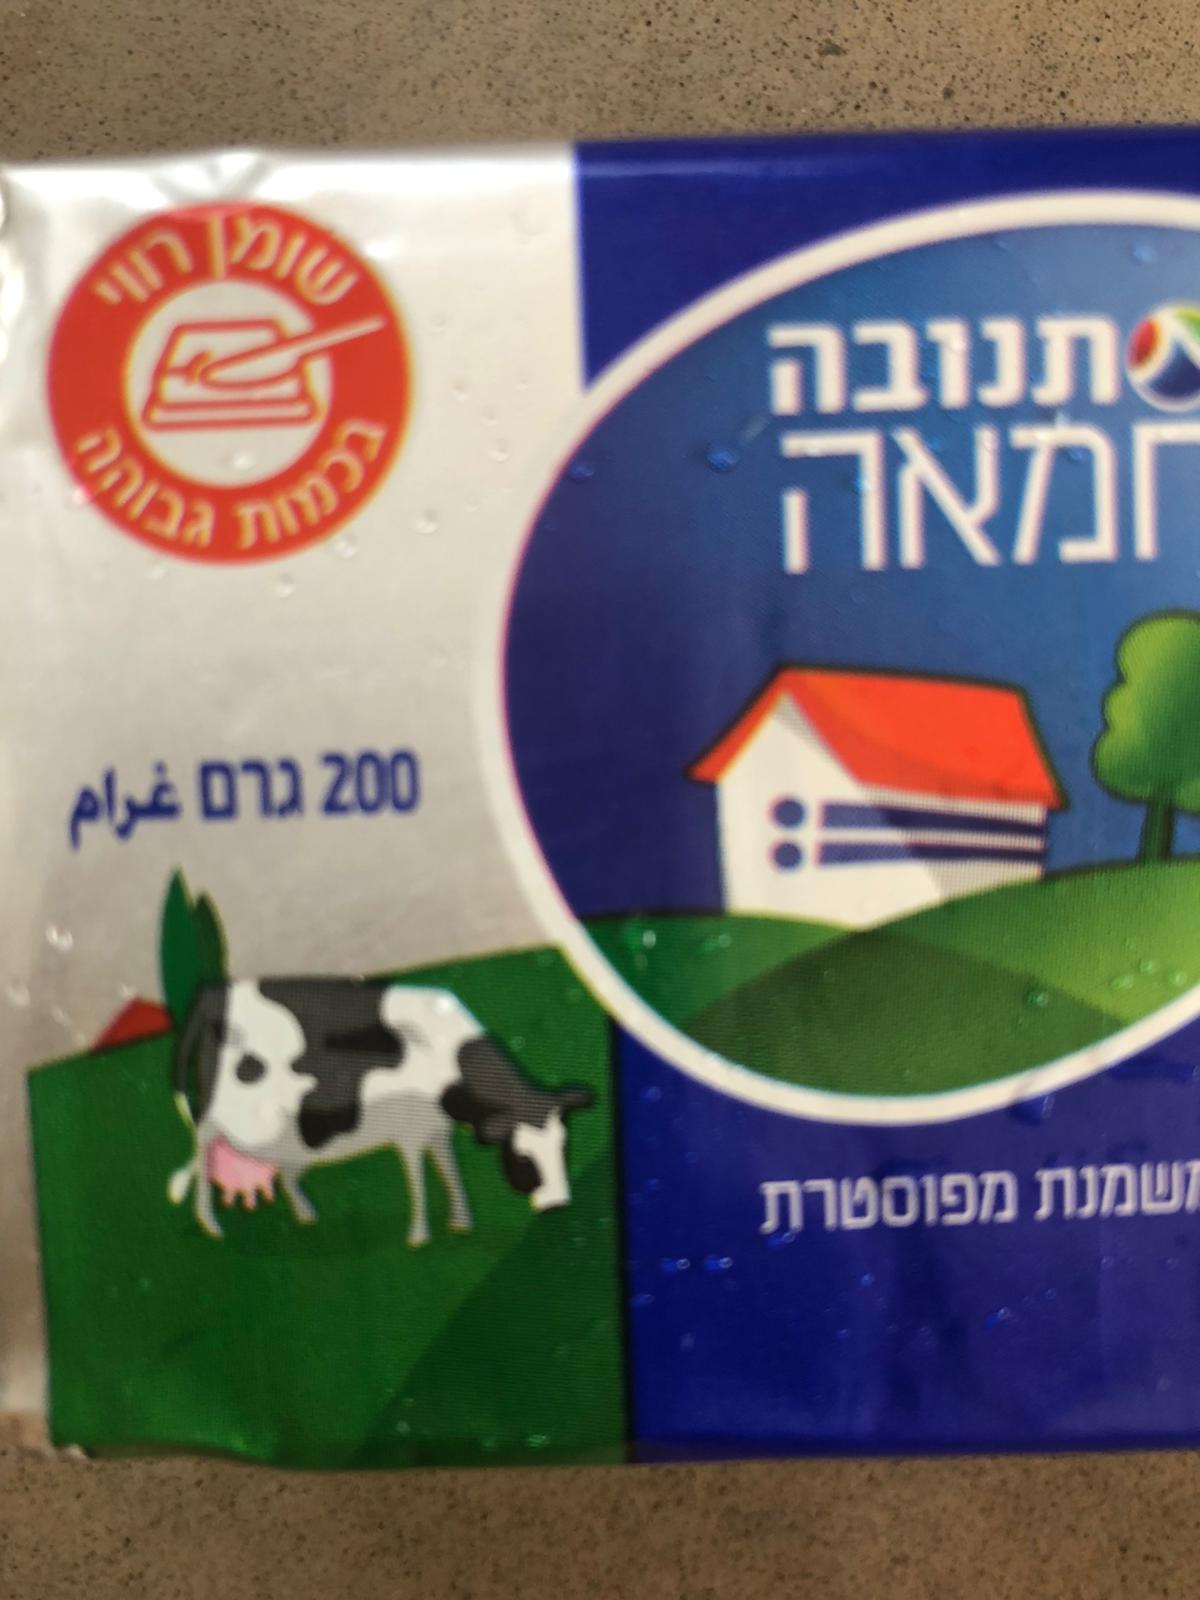fat: (45, 197, 421, 568)
